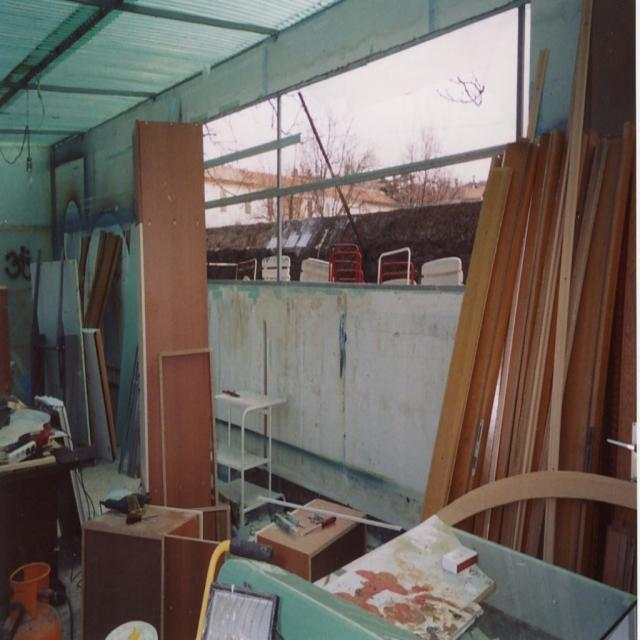chair: (429, 468, 636, 591)
desk: (316, 516, 640, 639)
